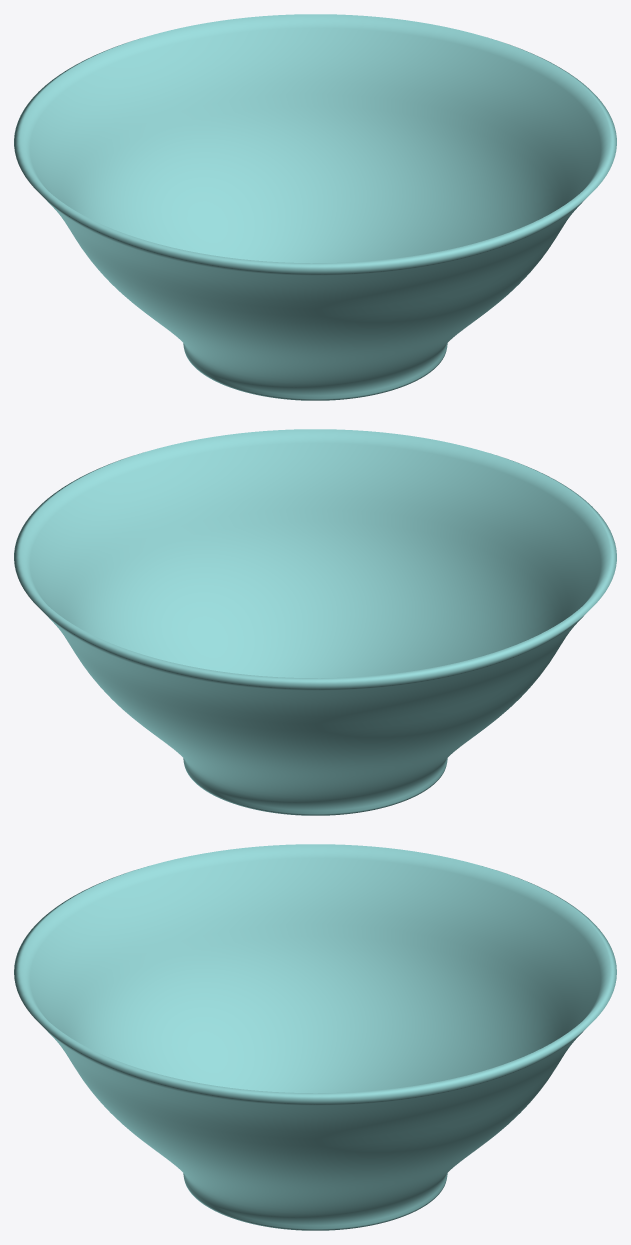
The model's file is bowl_v2.gltf.
The picture shows the model from 3 angles, top to bottom: view 1: azimuth 30°, elevation 25°; view 2: azimuth 150°, elevation 25°; view 3: azimuth 270°, elevation 25°; orthographic projection.
Parts seen in each view (by area): view 1: Sphere; view 2: Sphere; view 3: Sphere.
Part boxes in pixels (left/top/right/bottom): Sphere: left=14, top=14, right=616, bottom=400; Sphere: left=14, top=429, right=616, bottom=815; Sphere: left=14, top=844, right=616, bottom=1230.
Bounding box in the file's own units: 2.17 × 0.8213 × 2.17.
